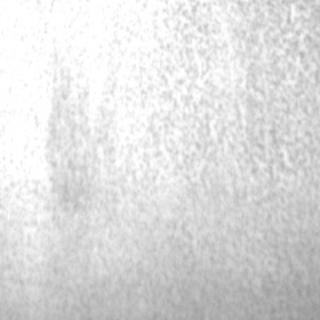pitted_surface: (47, 0, 317, 184)
